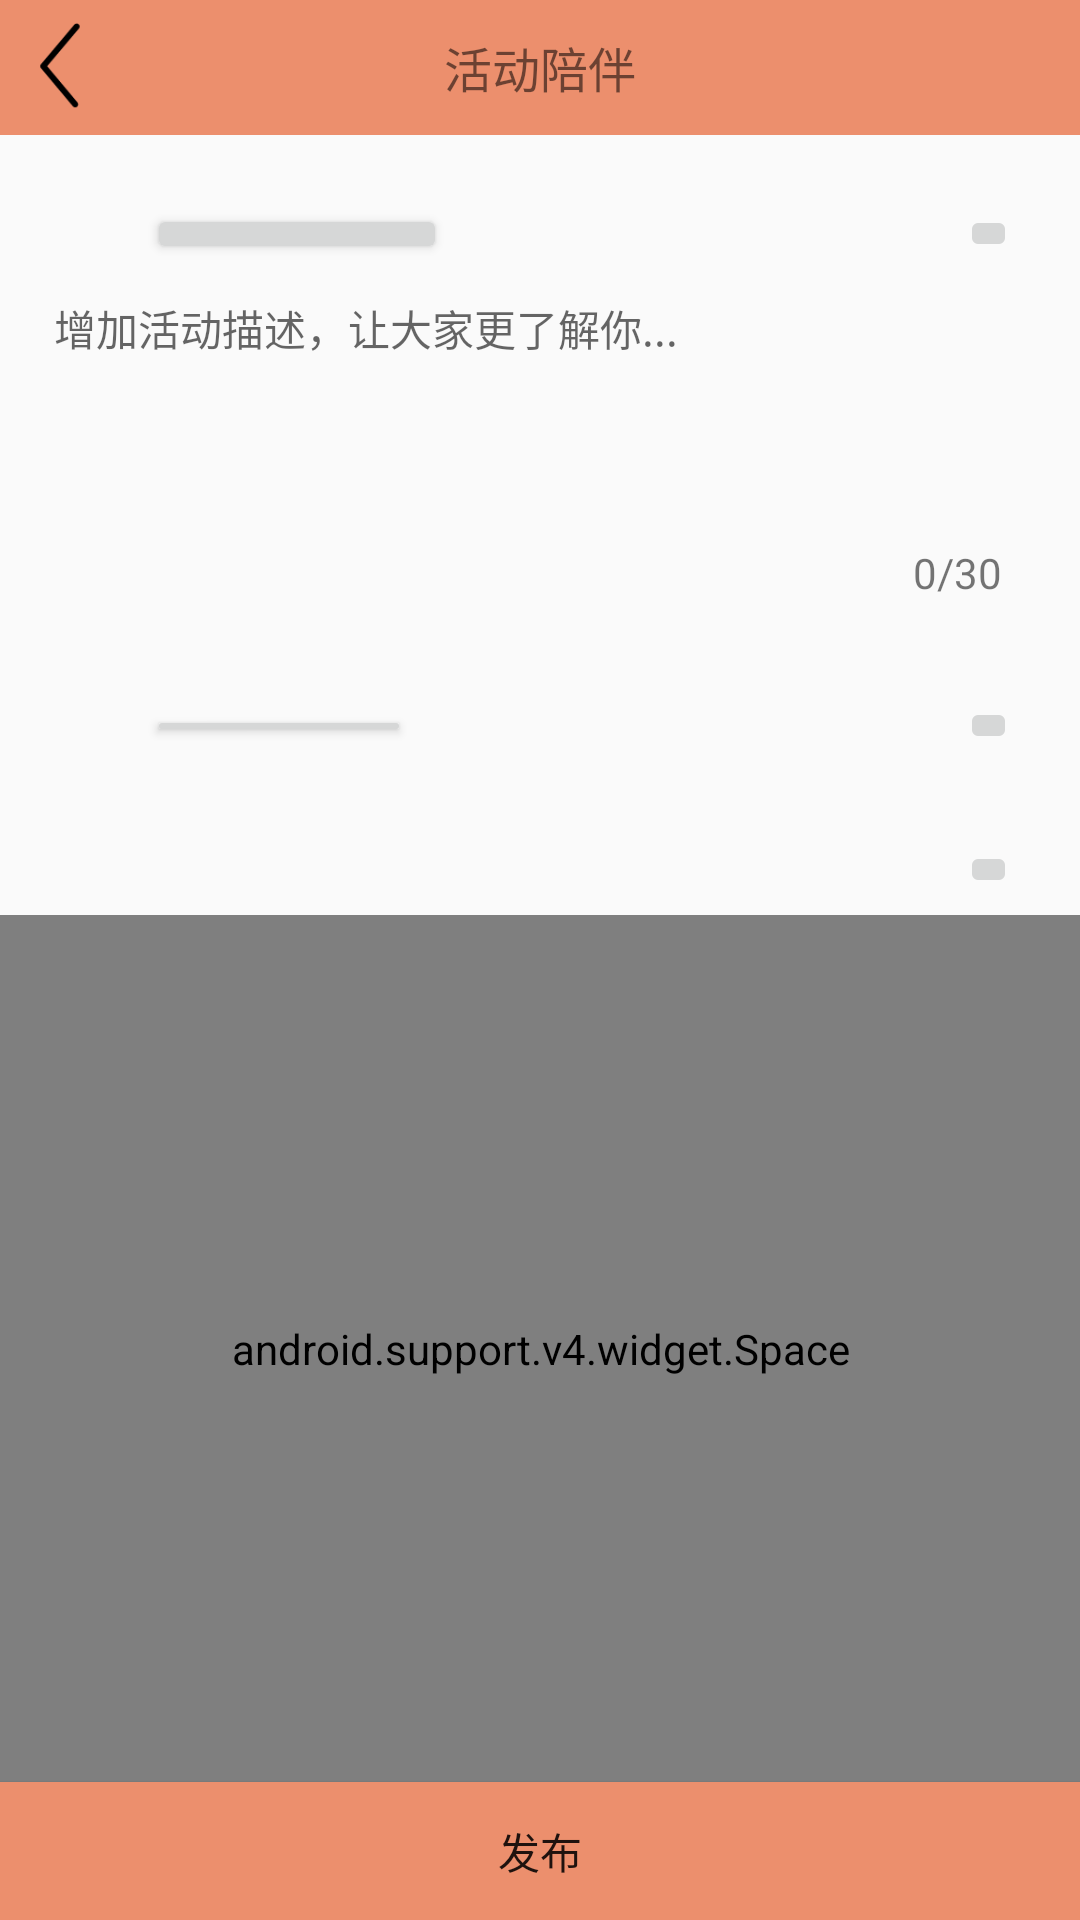

Icons on this 1080x1920 Android screen, each with the point to tap as (x,y):
arrow left: (60,65)
